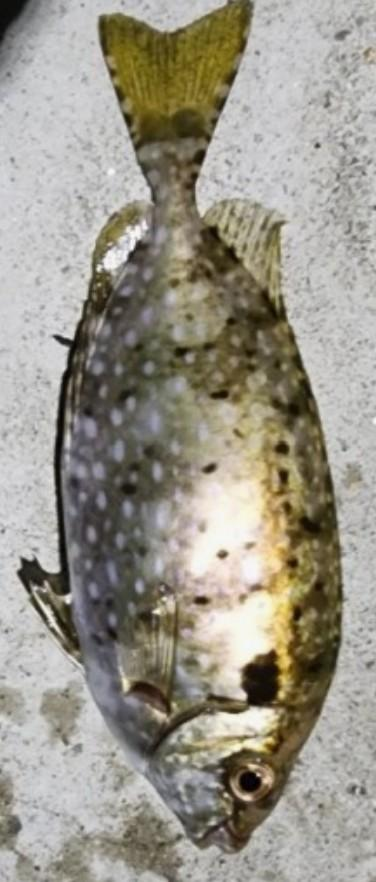fish: (19, 0, 341, 851)
